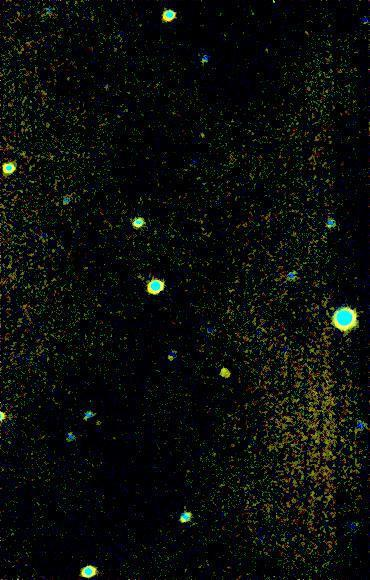star: (216, 359, 246, 389)
